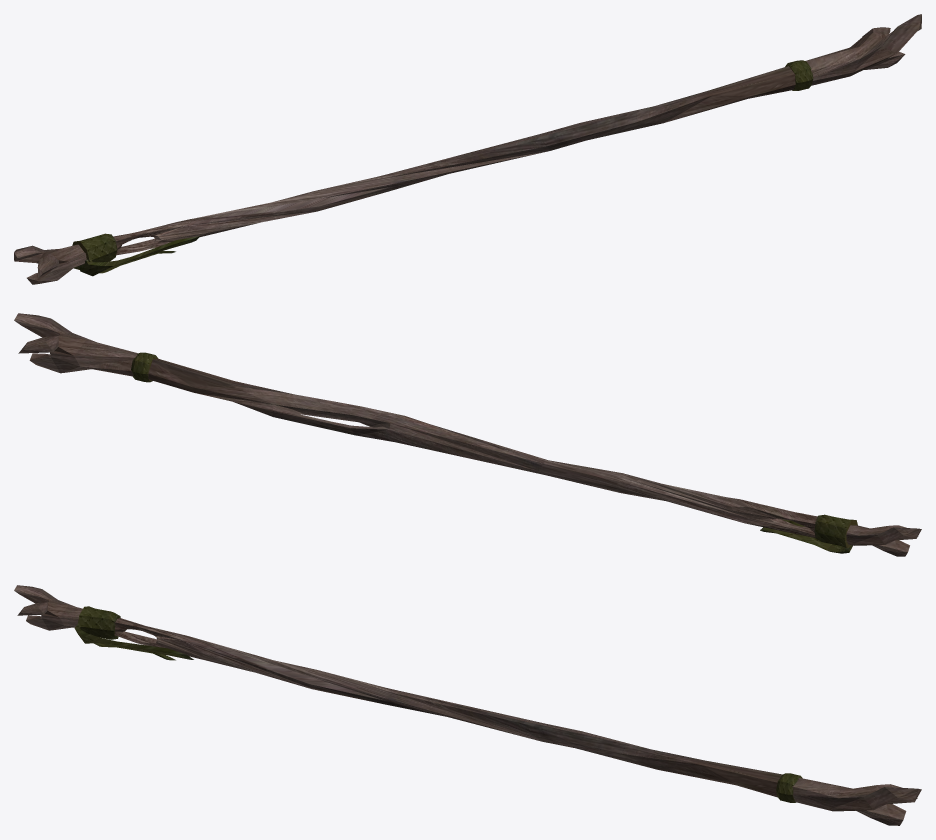
The model's file is G3_WEAPON_STAFF_MANA_01.glb.
3 views of the same model, one above another, from view 1: azimuth 30°, elevation 25°; view 2: azimuth 150°, elevation 25°; view 3: azimuth 330°, elevation 25° (orthographic). The views are drawn at different scales.
Parts seen in each view (by area): view 1: G3_WEAPON_STAFF_MANA_01; view 2: G3_WEAPON_STAFF_MANA_01; view 3: G3_WEAPON_STAFF_MANA_01.
Part boxes in pixels (left/top/right/bottom): G3_WEAPON_STAFF_MANA_01: left=14, top=14, right=921, bottom=284; G3_WEAPON_STAFF_MANA_01: left=14, top=313, right=921, bottom=556; G3_WEAPON_STAFF_MANA_01: left=14, top=585, right=921, bottom=825.
Bounding box in the file's own units: 2.01 × 0.0996 × 0.1546.
Materials: 1 (1 with a texture image).
